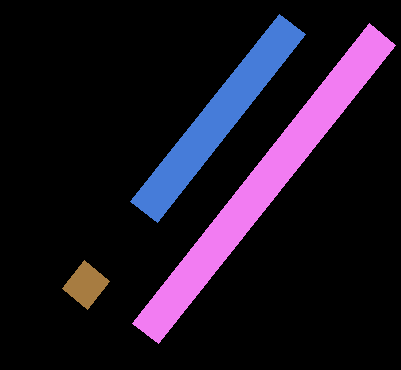parkingspot: (132, 23, 395, 343), (130, 14, 305, 222), (62, 260, 109, 309)
